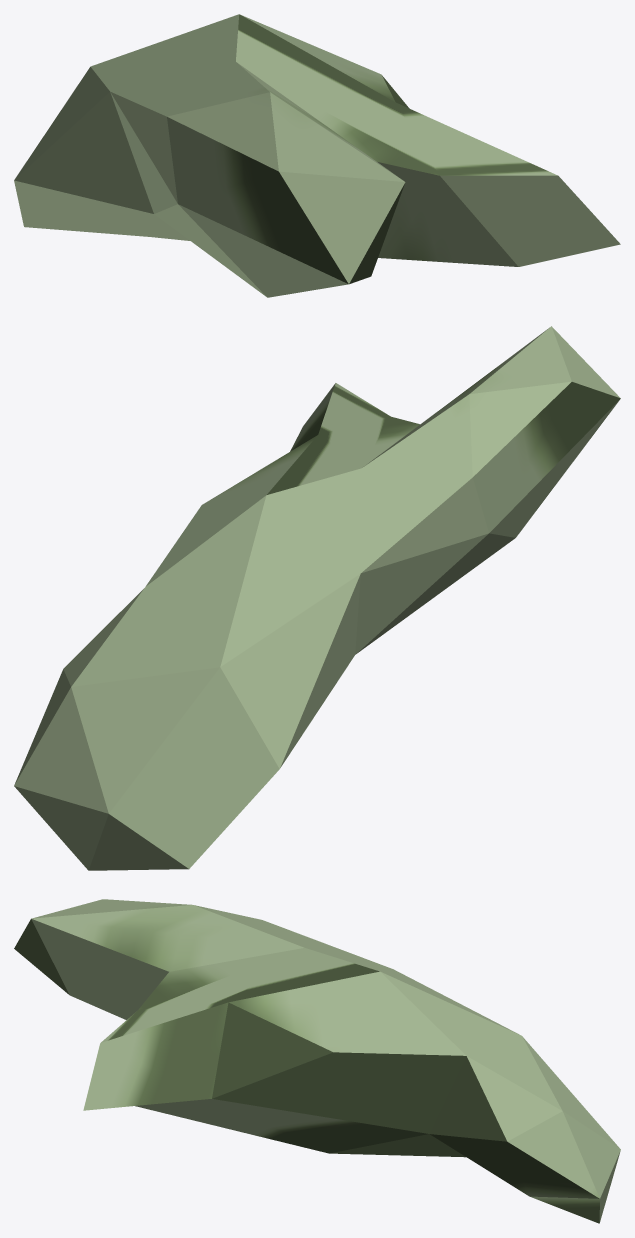
File: EA_Swamp_Moss_01d.glb
3 renders of one model, top to bottom at view 1: azimuth 30°, elevation 25°; view 2: azimuth 150°, elevation 25°; view 3: azimuth 270°, elevation 25°, orthographic. The views are drawn at different scales.
Visible parts, largest first — view 1: EA_Swamp_Moss_01d; view 2: EA_Swamp_Moss_01d; view 3: EA_Swamp_Moss_01d.
Boxes of the visible parts, x1,y1,x2,y2 form: EA_Swamp_Moss_01d: (14, 14, 620, 297); EA_Swamp_Moss_01d: (14, 326, 620, 870); EA_Swamp_Moss_01d: (14, 899, 620, 1223).
Size of the model in its own units: 1 by 1.1 by 2.28.
Materials: 1 (1 with a texture image).
